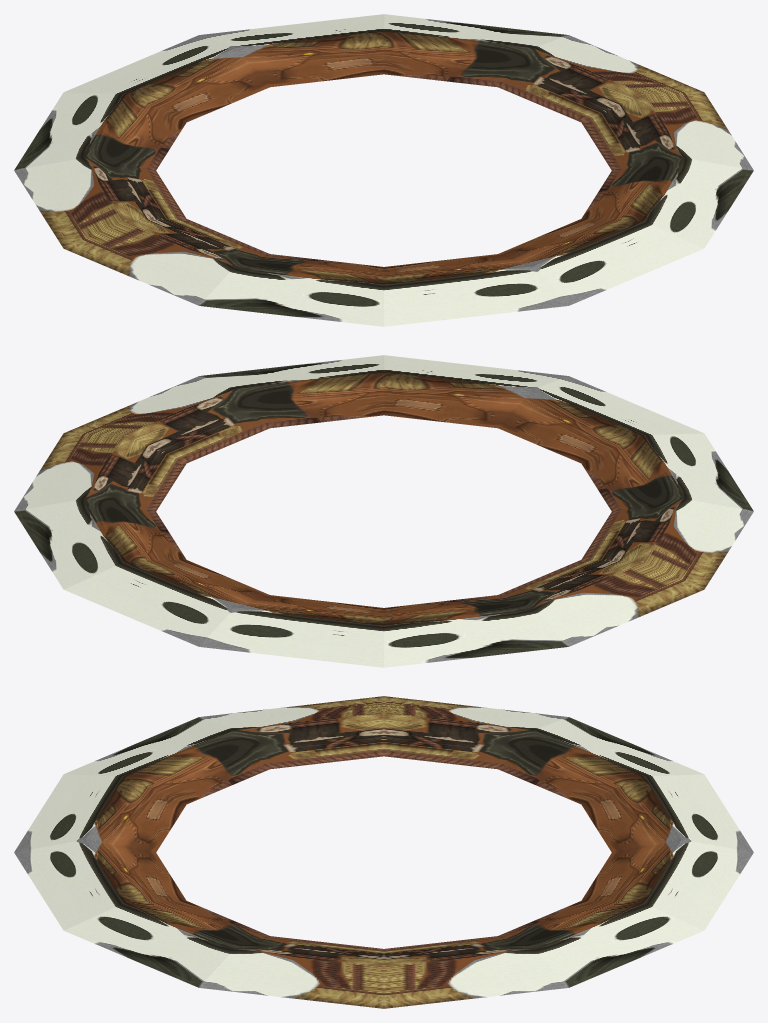
File: Panda_halo.obj
The picture shows the model from 3 angles, top to bottom: view 1: azimuth 30°, elevation 25°; view 2: azimuth 150°, elevation 25°; view 3: azimuth 270°, elevation 25°; orthographic projection.
Parts seen in each view (by area): view 1: Panda_halo_tri; view 2: Panda_halo_tri; view 3: Panda_halo_tri.
Part boxes in pixels (<box>): Panda_halo_tri: <box>14,14,753,326</box>; Panda_halo_tri: <box>14,355,753,667</box>; Panda_halo_tri: <box>14,696,753,1008</box>.
Bounding box in the file's own units: 0.3 × 0.0118 × 0.3.
Materials: 1 (1 with a texture image).
